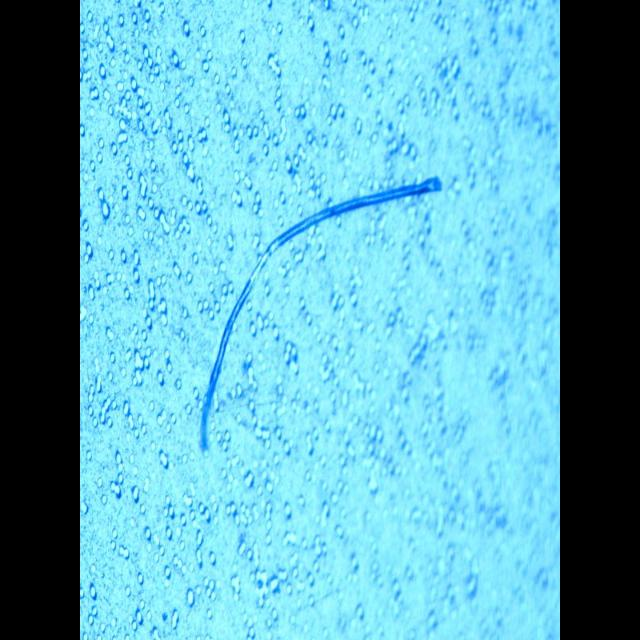Fibre: (197, 173, 443, 455)
